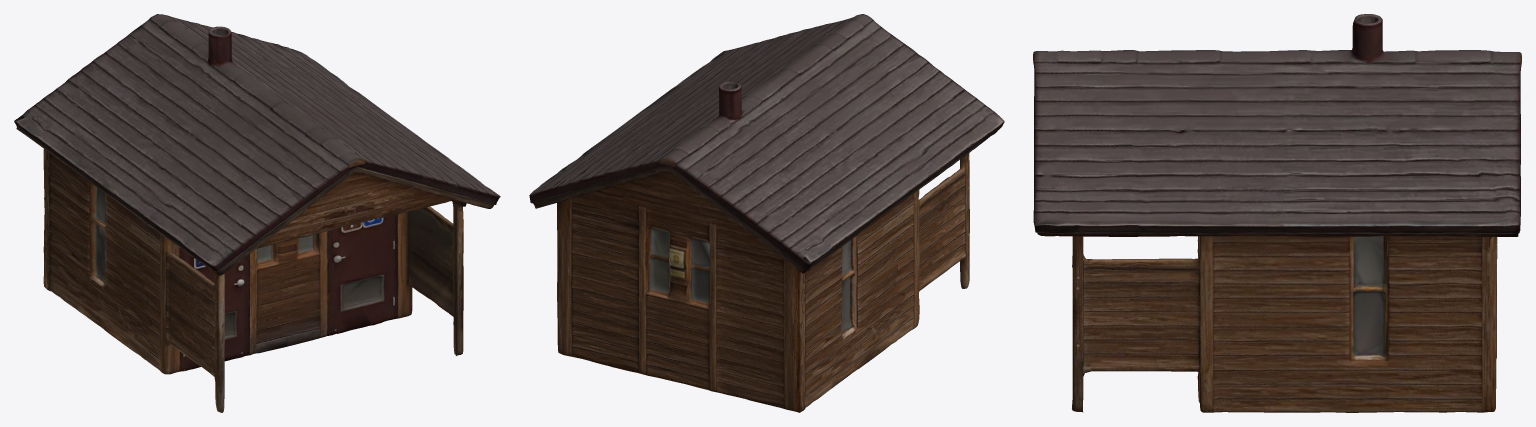
Rendered from outhouse.glb.
The picture shows the model from 3 angles, left to right: view 1: azimuth 30°, elevation 25°; view 2: azimuth 150°, elevation 25°; view 3: azimuth 270°, elevation 25°; orthographic projection. The views are drawn at different scales.
Visible parts, largest first — view 1: tripo_node_1b987c7c; view 2: tripo_node_1b987c7c; view 3: tripo_node_1b987c7c.
Boxes of the visible parts, x1,y1,x2,y2 form: tripo_node_1b987c7c: (14, 14, 500, 412); tripo_node_1b987c7c: (529, 14, 1004, 412); tripo_node_1b987c7c: (1033, 14, 1521, 412).
Bounding box in the file's own units: 0.8094 × 0.7142 × 0.9786.
Materials: 1 (1 with a texture image).
